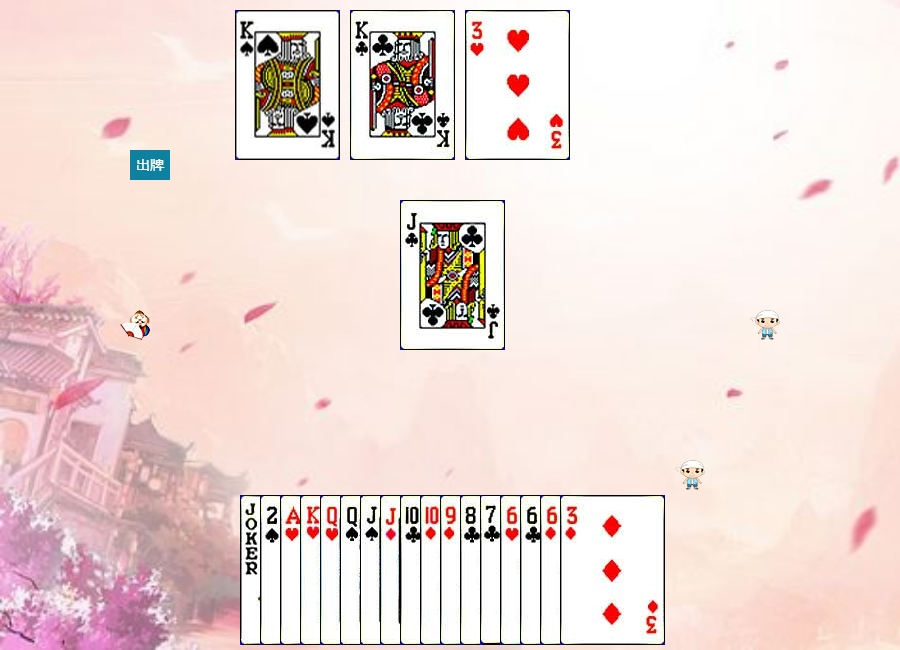10~1: (420, 495, 525, 645)
10~2: (400, 495, 505, 645)
11~1: (380, 495, 485, 645)
11~2: (400, 200, 505, 350)
11~4: (360, 495, 465, 645)
12~3: (320, 495, 425, 645)
12~4: (340, 495, 445, 645)
13~2: (350, 10, 455, 160)
13~3: (300, 495, 405, 645)
13~4: (235, 10, 340, 160)
14~3: (280, 495, 385, 645)
15~4: (260, 495, 365, 645)
17~3: (240, 495, 345, 645)
3~1: (560, 495, 665, 645)
3~3: (465, 10, 570, 160)
6~1: (540, 495, 645, 645)
6~2: (520, 495, 625, 645)
6~3: (500, 495, 605, 645)
7~2: (480, 495, 585, 645)
8~2: (460, 495, 565, 645)
9~1: (440, 495, 545, 645)
